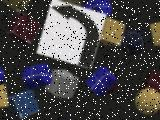Left: (36, 0, 106, 69)
